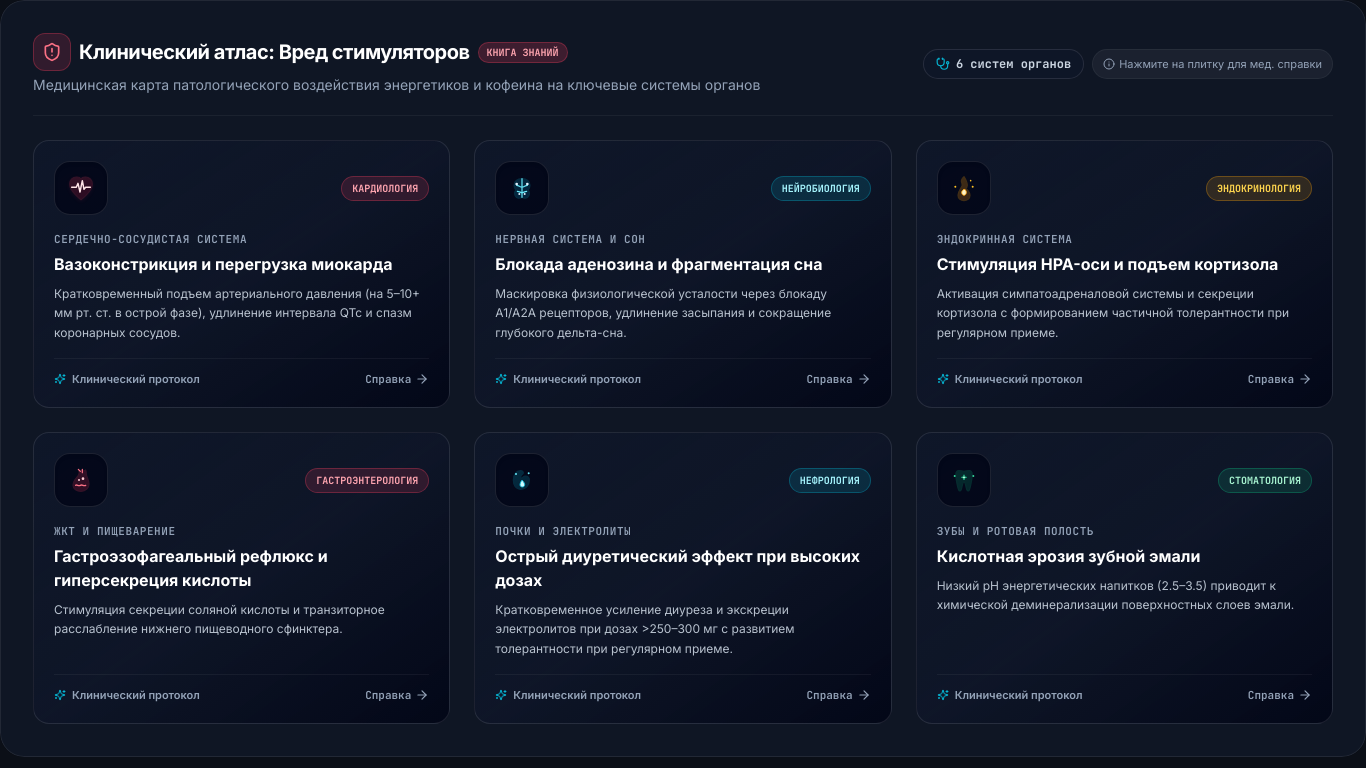
Test: CaffeineHarmGrid Component (TDD) › opens HarmDetailModal when clicking on a harm tile
Click the button "Сердечно-сосудистая система" at (242, 274), box x1=33 y1=140 x2=450 y2=408
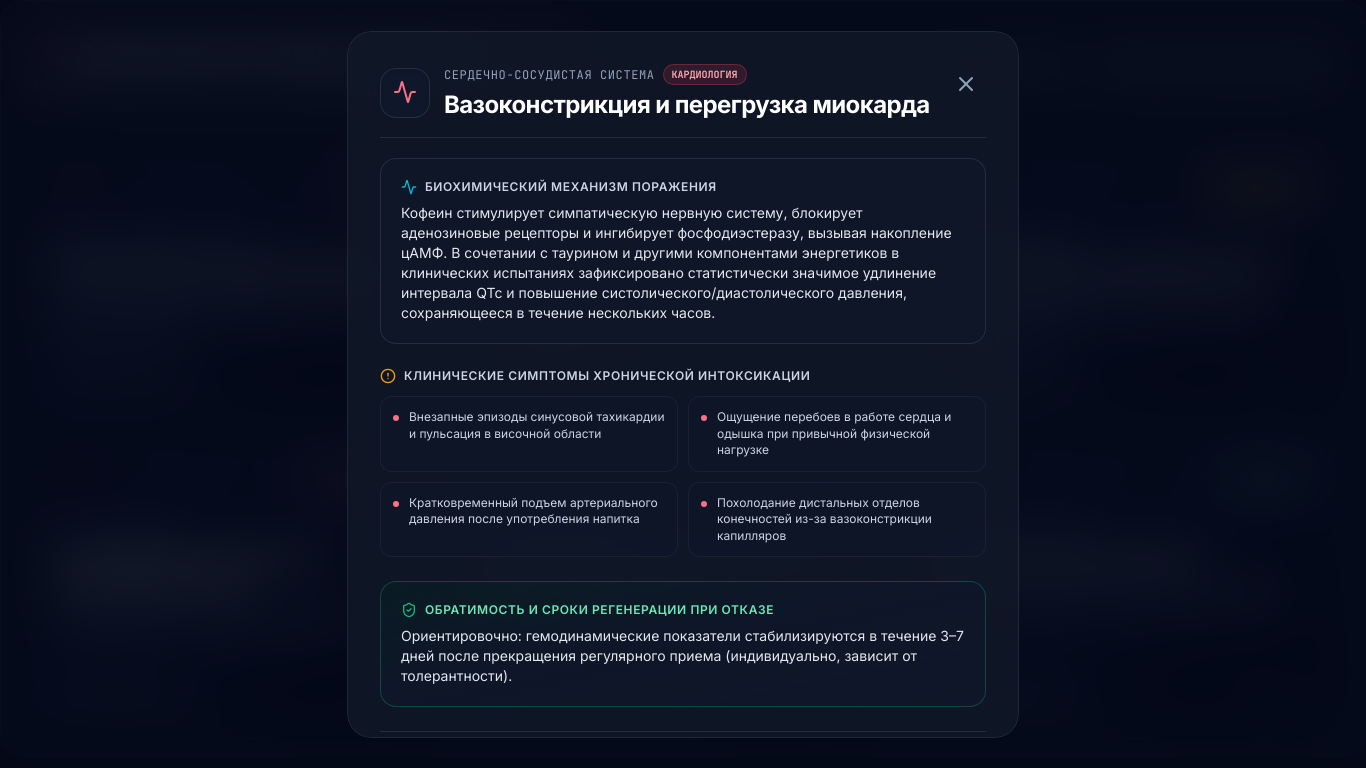
Check: the dialog is shown, box x1=347 y1=31 x2=1019 y2=737
Check: the text "Биохимический механизм поражения" is shown, box x1=401 y1=179 x2=717 y2=195
